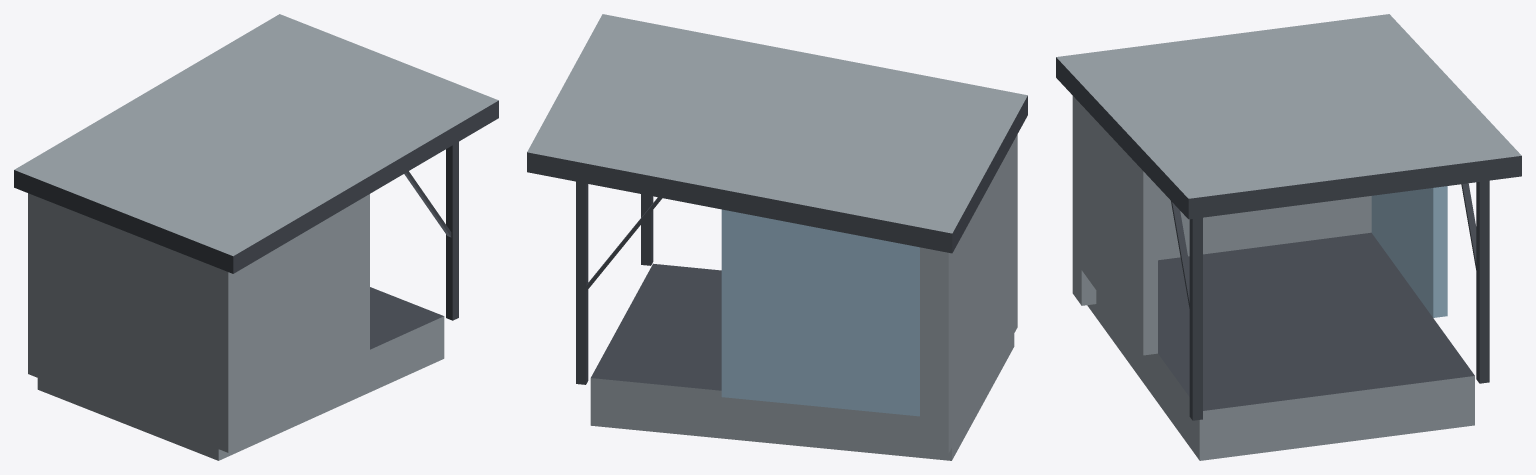
Rendered from music-factory-amphitheatre.glb.
The picture shows the model from 3 angles, left to right: view 1: azimuth 30°, elevation 25°; view 2: azimuth 150°, elevation 25°; view 3: azimuth 270°, elevation 25°; orthographic projection. The views are drawn at different scales.
Visible parts, largest first — view 1: Skyla Credit Union Amphitheatre; view 2: Skyla Credit Union Amphitheatre; view 3: Skyla Credit Union Amphitheatre.
Part boxes in pixels (bbox=[...]): Skyla Credit Union Amphitheatre: bbox=[14, 14, 498, 460]; Skyla Credit Union Amphitheatre: bbox=[527, 14, 1027, 460]; Skyla Credit Union Amphitheatre: bbox=[1056, 14, 1521, 460].
Size of the model in its own units: 35.23 by 21.1 by 30.67.
